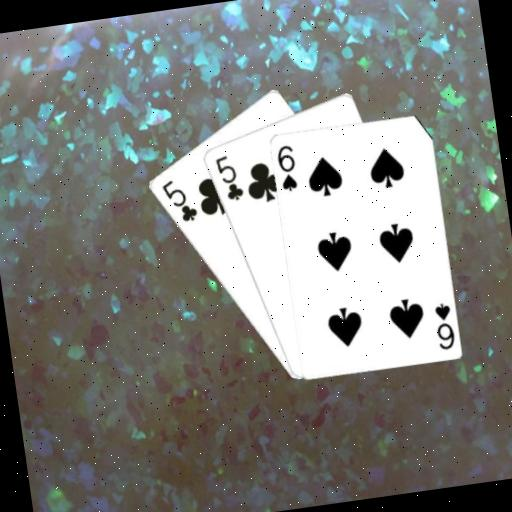5C: (157, 174, 200, 227), (211, 150, 246, 204)
6S: (272, 141, 299, 194), (430, 299, 457, 352)
